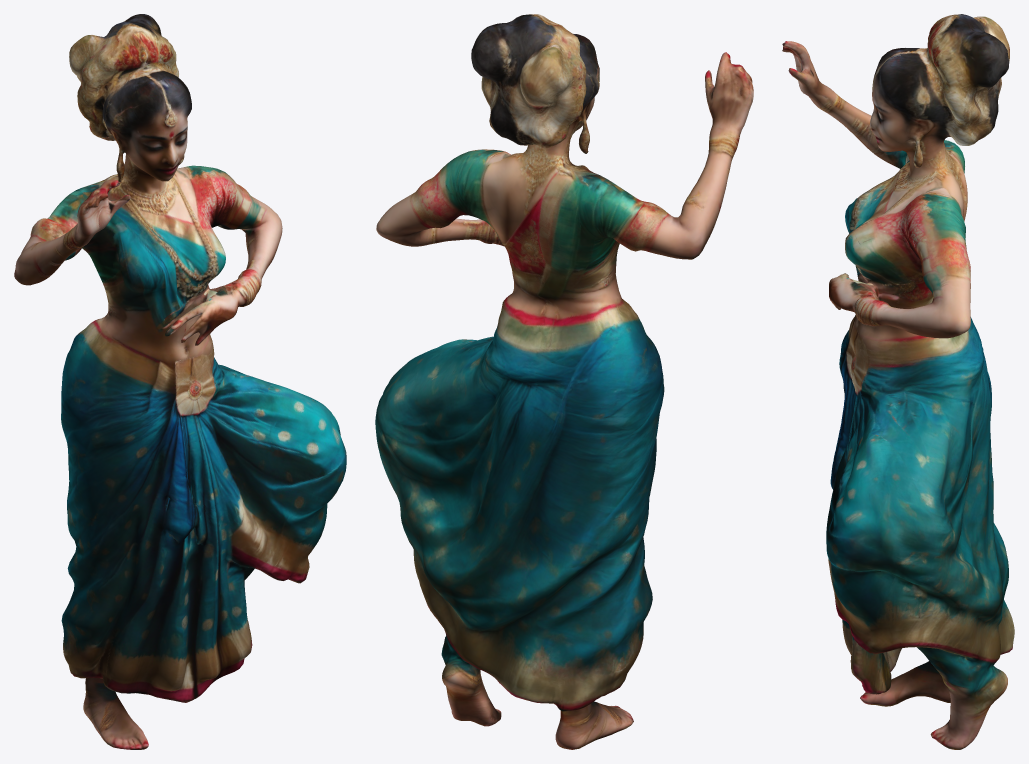
3 views of the same model, side by side, from view 1: azimuth 30°, elevation 25°; view 2: azimuth 150°, elevation 25°; view 3: azimuth 270°, elevation 25° (orthographic). The views are drawn at different scales.
Parts seen in each view (by area): view 1: Mesh_0; view 2: Mesh_0; view 3: Mesh_0.
Part boxes in pixels (bbox=[...]): Mesh_0: bbox=[14, 14, 346, 749]; Mesh_0: bbox=[375, 14, 753, 749]; Mesh_0: bbox=[782, 14, 1014, 749].
Bounding box in the file's own units: 0.9506 × 2 × 0.5978.
Materials: 1 (1 with a texture image).
